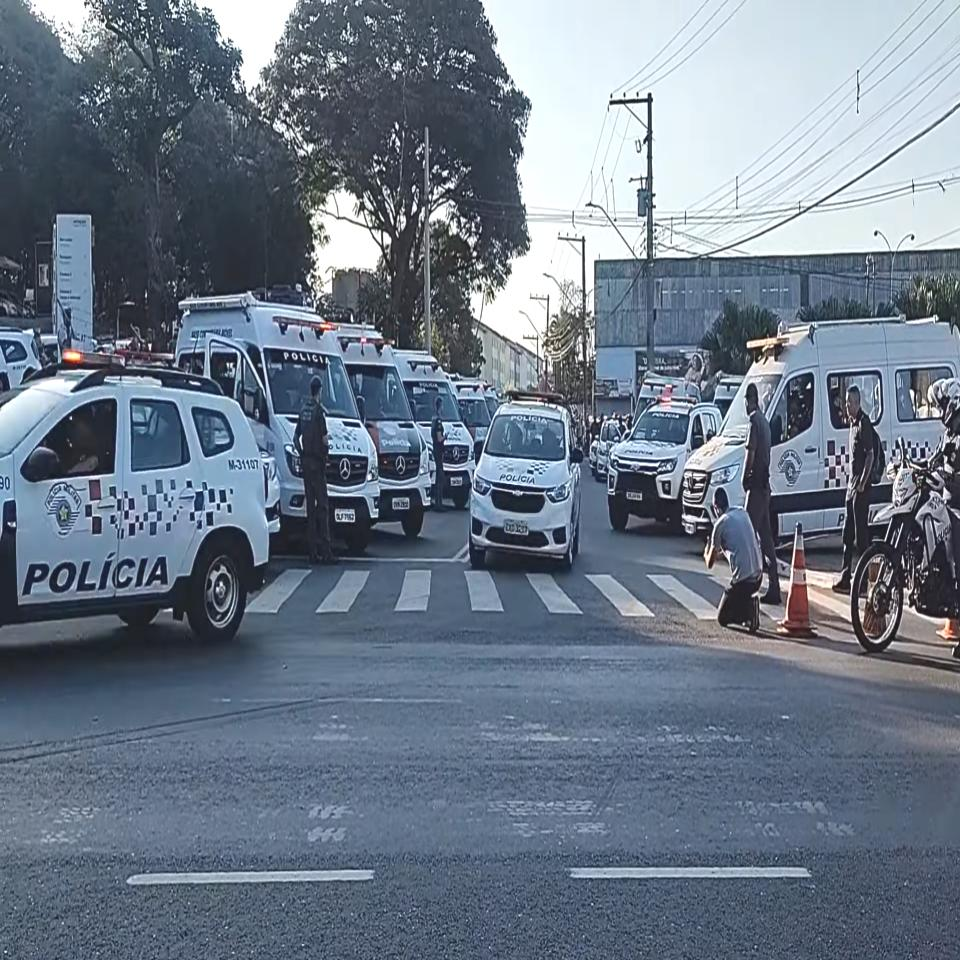viatura: (0, 340, 274, 654), (467, 382, 589, 578), (606, 389, 723, 528)
